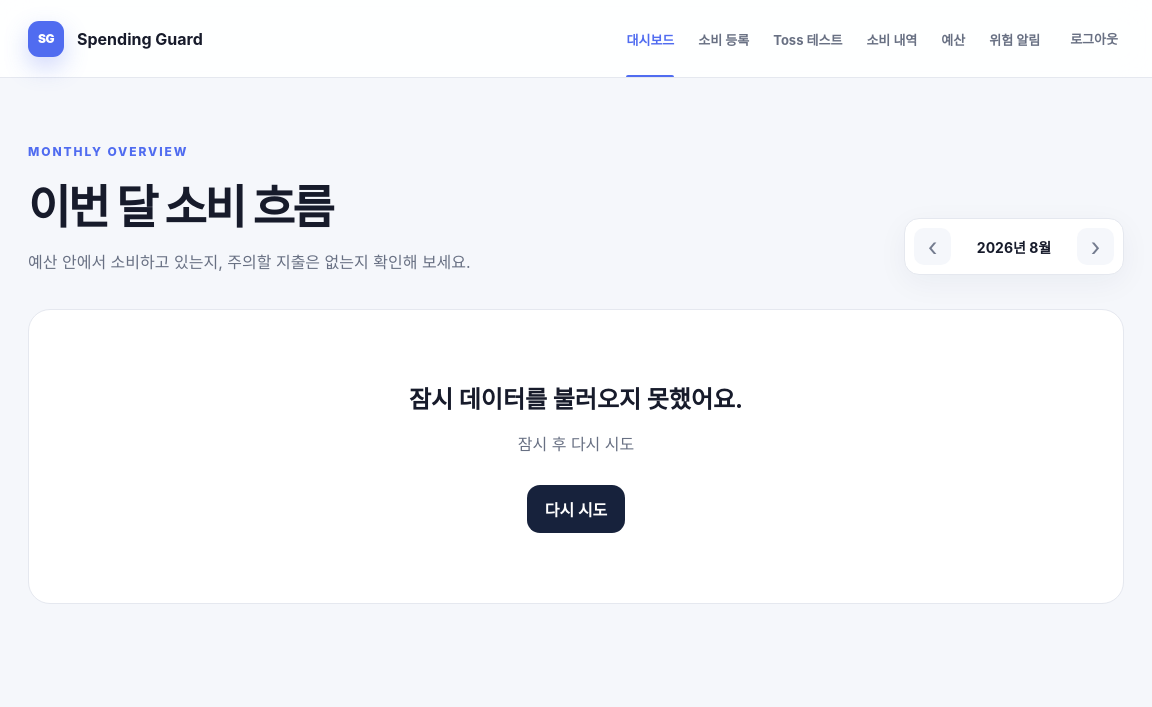
Scenario: DashboardView › offers a retry when loading fails
The width and height of the screenshot is (1152, 707).
Expected: the message shows "잠시 후 다시 시도", [518,434,634,454]
Click the button "다시 시도".
click(576, 509)  # box [527,485,625,533]
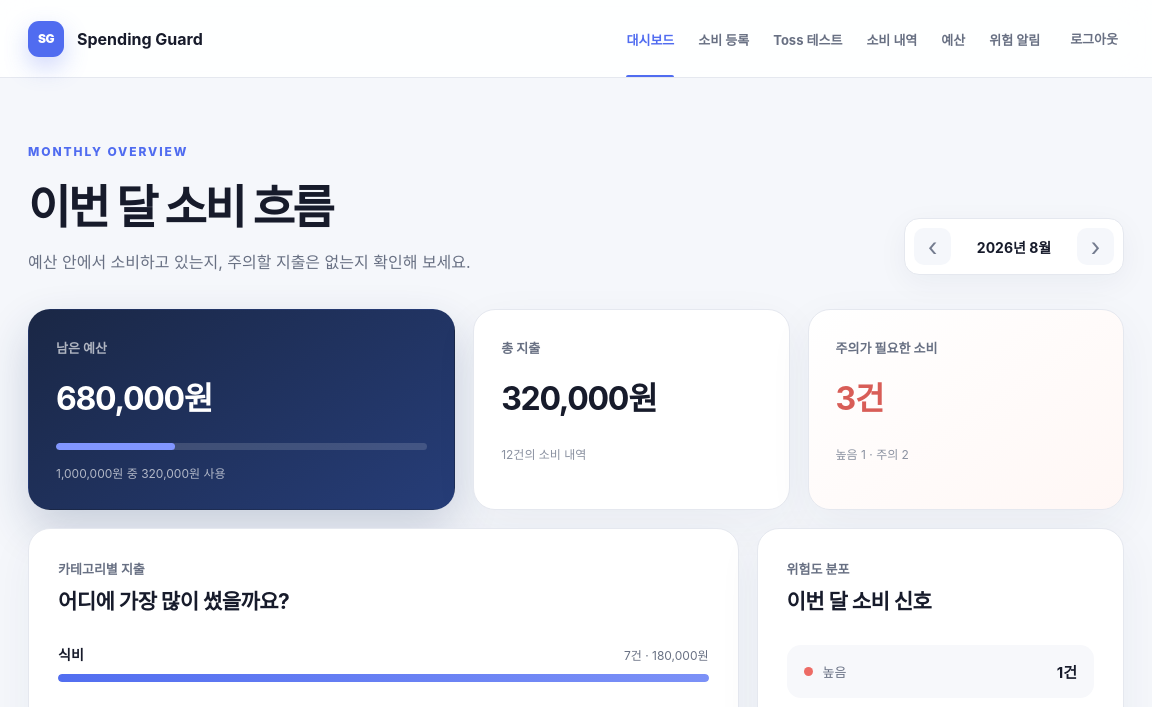
Expected: the text "680,000원" is shown, [56,379,212,418]
